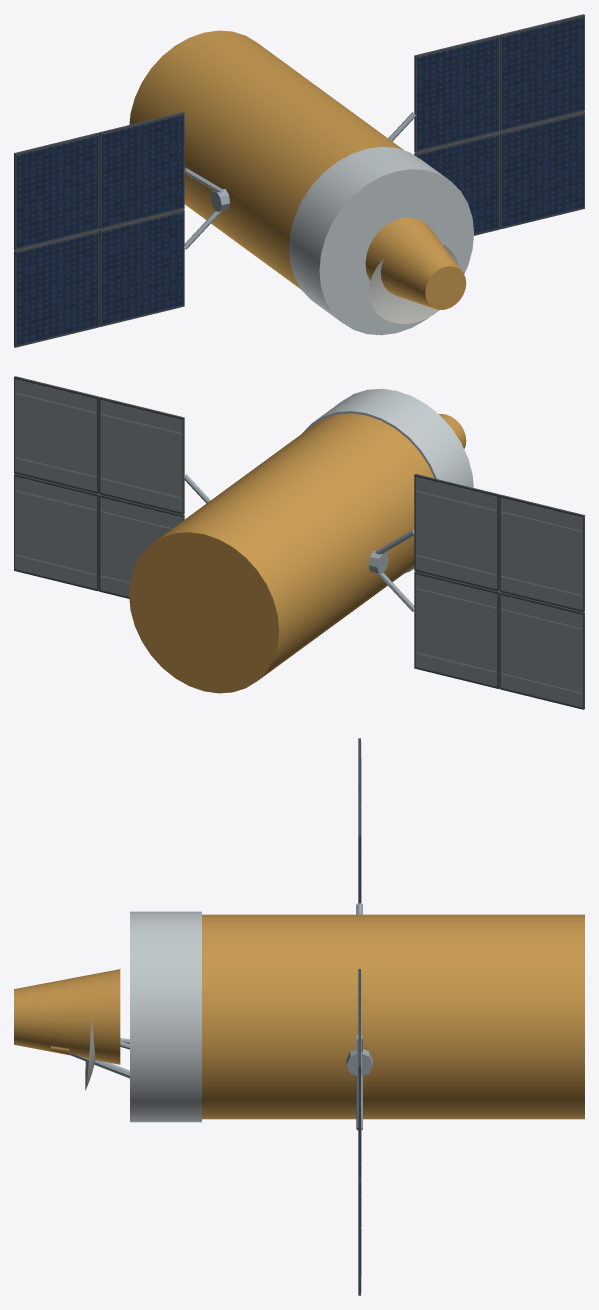
The model's file is ref-raduga-7229.glb.
3 renders of one model, top to bottom at view 1: azimuth 30°, elevation 25°; view 2: azimuth 150°, elevation 25°; view 3: azimuth 270°, elevation 25°, orthographic. The views are drawn at different scales.
Parts seen in each view (by area): view 1: Solar cell panel (×8), Service barrel, Equipment flange, Solar panel frame (×8), Axial antenna horn, Deck-mounted reflector; view 2: Rear array substrate (×8), Service barrel, Solar panel frame (×8), Equipment flange; view 3: Service barrel, Equipment flange, Axial antenna horn.
Part boxes in pixels (x1,y1,x2,y2): Solar cell panel (×8): [16, 17, 583, 345]; Service barrel: [129, 30, 403, 289]; Equipment flange: [289, 146, 473, 335]; Solar panel frame (×8): [14, 14, 584, 347]; Axial antenna horn: [365, 217, 466, 309]; Deck-mounted reflector: [369, 245, 458, 323]; Rear array substrate (×8): [15, 379, 582, 707]; Service barrel: [129, 413, 433, 693]; Solar panel frame (×8): [14, 376, 584, 709]; Equipment flange: [302, 388, 473, 572]; Service barrel: [202, 914, 584, 1119]; Equipment flange: [130, 911, 201, 1122]; Axial antenna horn: [14, 969, 120, 1064].
Bounding box in the file's own units: 9.49 × 3.08 × 6.97.
7 materials, 1 textured.
